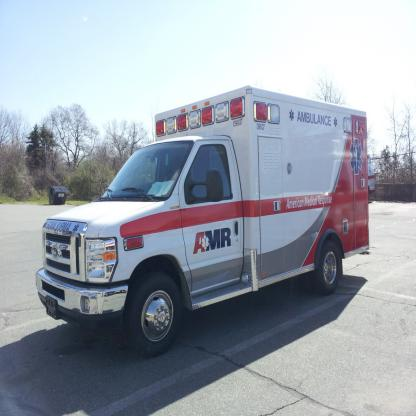Ambulance: (35, 83, 371, 358)
Truck: (39, 95, 366, 356)
